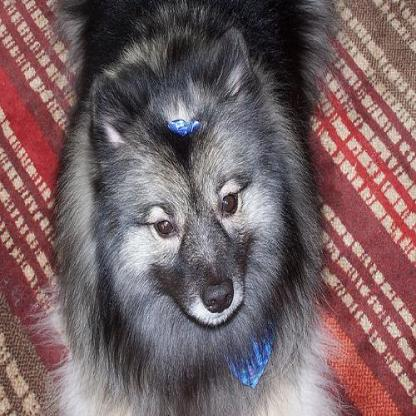keeshond: (50, 0, 340, 412)
